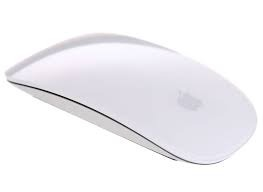mouse: (10, 32, 260, 179)
